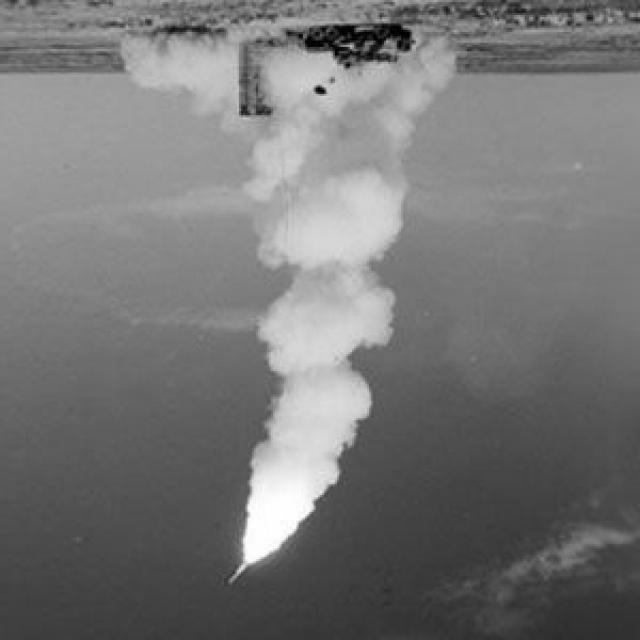Missile: (218, 555, 250, 592)
